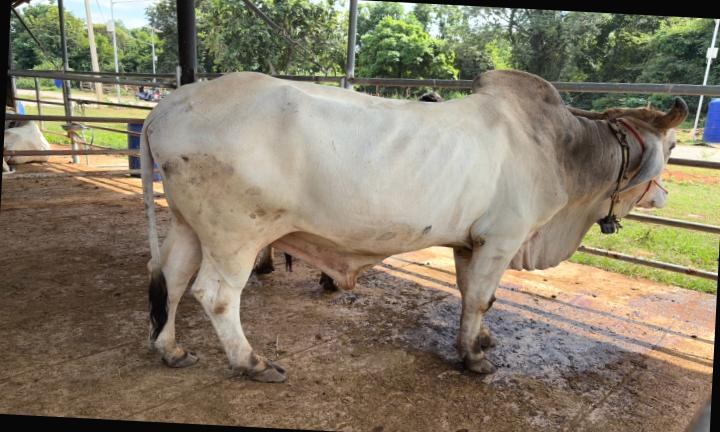Brahman: (140, 70, 688, 381)
